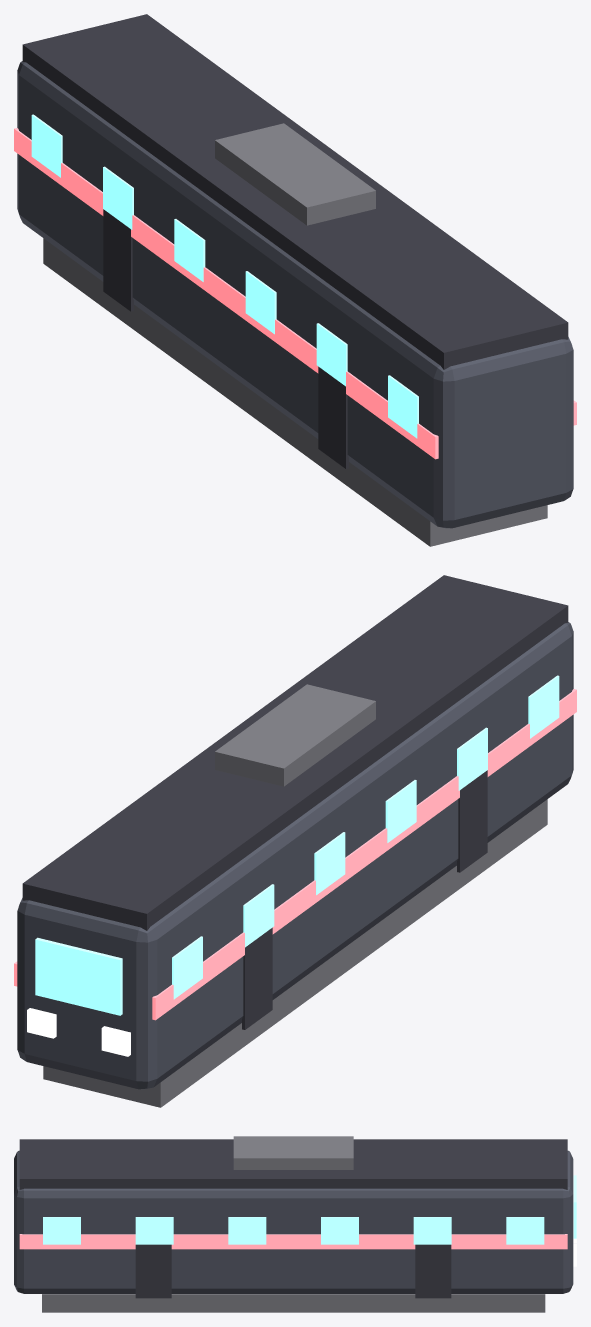
The model's file is train.glb.
3 renders of one model, top to bottom at view 1: azimuth 30°, elevation 25°; view 2: azimuth 150°, elevation 25°; view 3: azimuth 270°, elevation 25°, orthographic. The views are drawn at different scales.
Parts seen in each view (by area): view 1: train; view 2: train; view 3: train.
Boxes of the visible parts, x1,y1,x2,y2 form: train: (14, 14, 576, 546); train: (14, 575, 576, 1107); train: (14, 1136, 576, 1312).
Size of the model in its own units: 2.67 by 4.05 by 14.09.
